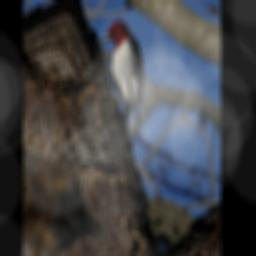Woodpecker: (79, 6, 164, 140)
